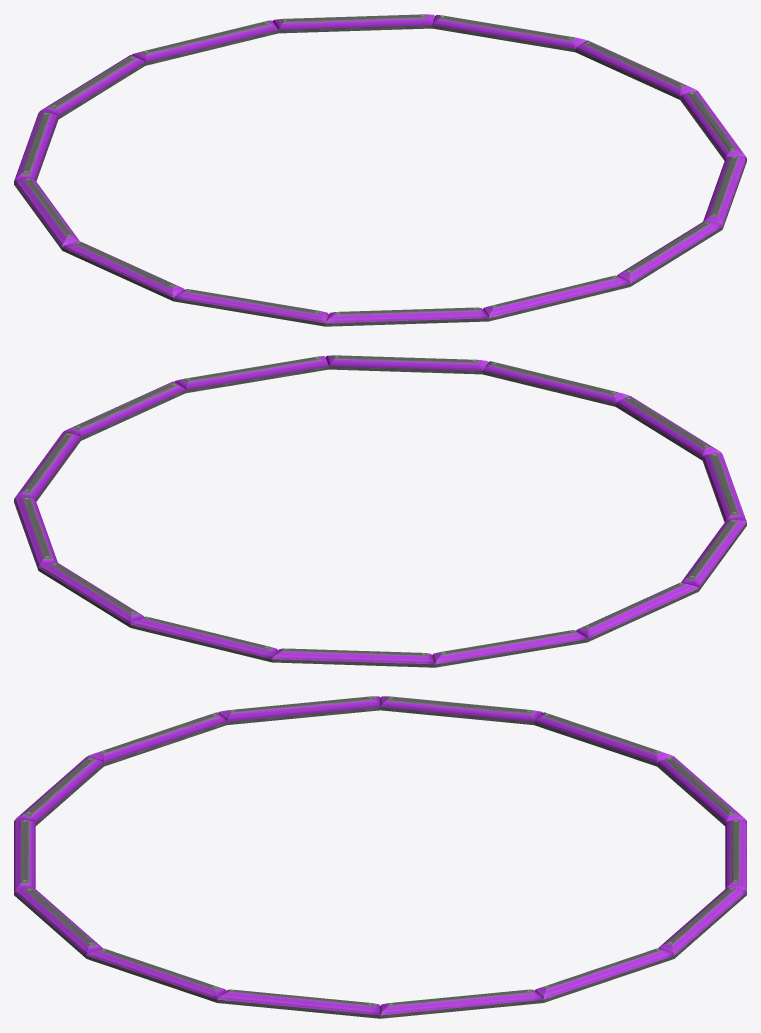
The model's file is LEDcircles_large.fbx.
The picture shows the model from 3 angles, top to bottom: view 1: azimuth 30°, elevation 25°; view 2: azimuth 150°, elevation 25°; view 3: azimuth 270°, elevation 25°; orthographic projection. The views are drawn at different scales.
Parts seen in each view (by area): view 1: Tube_2; view 2: Tube_2; view 3: Tube_2.
Boxes of the visible parts, box(x1,y1,x2,y2) form: Tube_2: box(14, 14, 746, 326); Tube_2: box(14, 355, 746, 667); Tube_2: box(14, 696, 746, 1018).
Size of the model in its own units: 883 by 11.6 by 861.
Materials: 1 (1 with a texture image).
